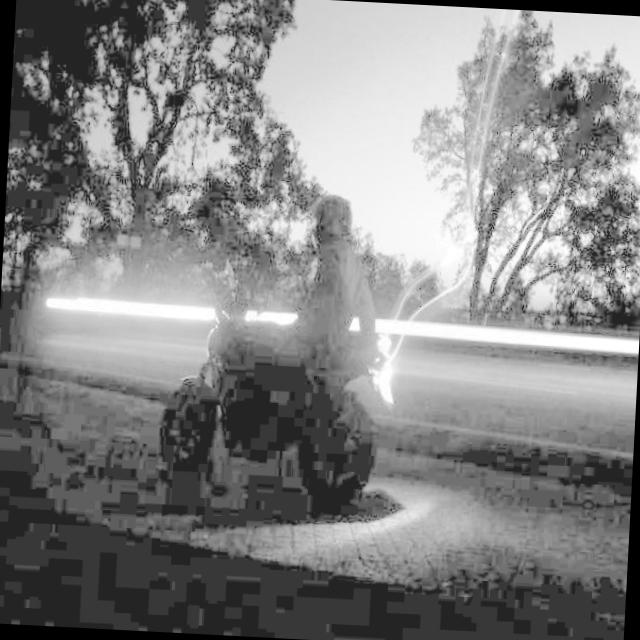Motorcycle: (128, 293, 427, 552)
